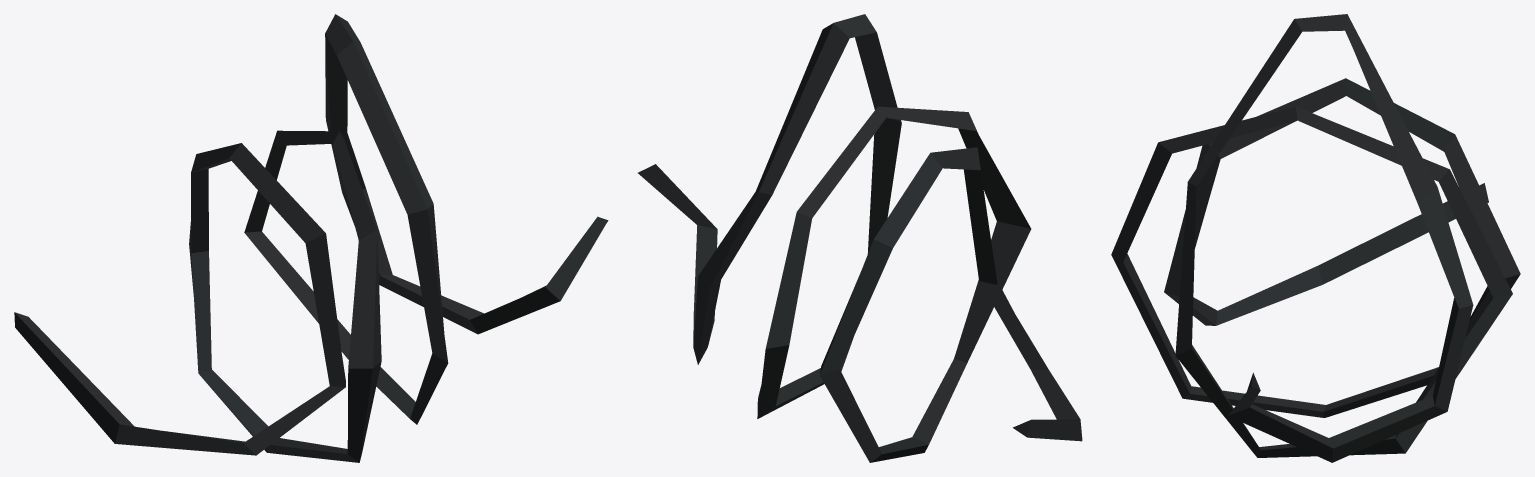
The model's file is SM_Prop_Powerline_Bundle_01.glb.
3 renders of one model, left to right at view 1: azimuth 30°, elevation 25°; view 2: azimuth 150°, elevation 25°; view 3: azimuth 270°, elevation 25°, orthographic. The views are drawn at different scales.
Parts seen in each view (by area): view 1: SM_Prop_Powerline_Bundle_01; view 2: SM_Prop_Powerline_Bundle_01; view 3: SM_Prop_Powerline_Bundle_01.
Part boxes in pixels (left/top/right/bottom): SM_Prop_Powerline_Bundle_01: left=14, top=14, right=608, bottom=462; SM_Prop_Powerline_Bundle_01: left=638, top=14, right=1082, bottom=462; SM_Prop_Powerline_Bundle_01: left=1111, top=14, right=1520, bottom=462.
Bounding box in the file's own units: 1.42 × 1.14 × 0.9468.
Materials: 1 (1 with a texture image).
